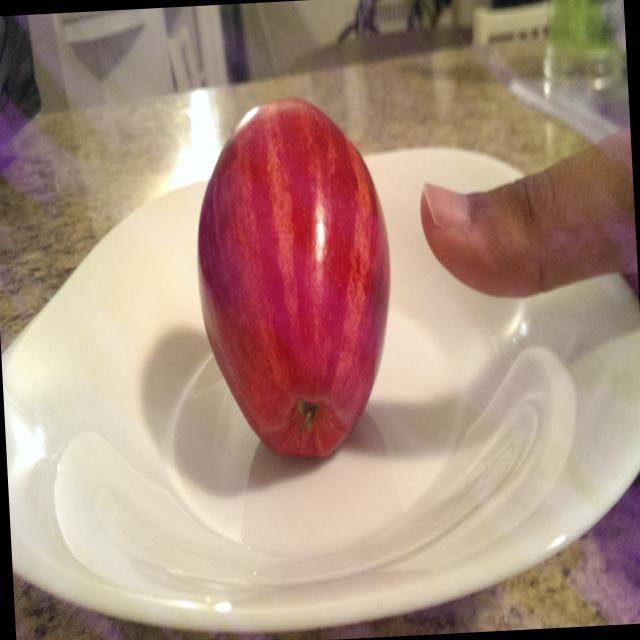Apple: (182, 81, 408, 482)
Finger: (414, 143, 586, 310)
